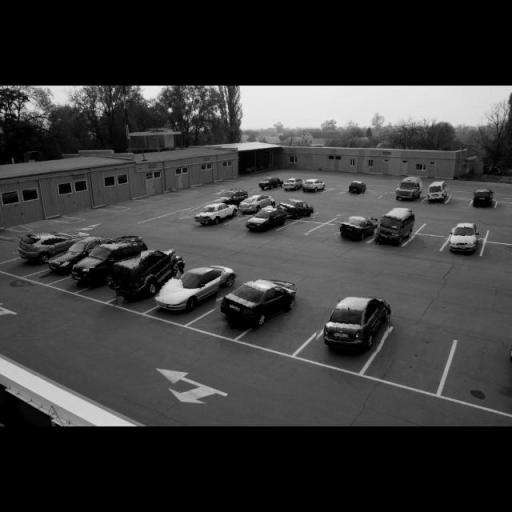busy: (313, 296, 391, 357), (214, 275, 295, 331), (110, 248, 182, 302), (71, 234, 142, 284), (158, 267, 230, 314), (13, 228, 73, 264), (368, 208, 418, 246), (55, 238, 99, 270), (444, 222, 486, 254), (334, 216, 380, 244), (193, 202, 239, 224), (246, 209, 290, 231), (277, 197, 318, 219), (390, 176, 424, 202), (238, 195, 272, 215), (425, 182, 452, 204), (220, 187, 254, 203), (471, 188, 497, 208), (302, 179, 328, 194), (256, 177, 282, 191), (346, 181, 368, 197), (284, 178, 305, 192)
free: (452, 360, 511, 398), (387, 343, 442, 375), (283, 316, 315, 338), (487, 244, 511, 262), (416, 236, 442, 249), (492, 229, 512, 242), (287, 224, 310, 235), (320, 225, 341, 237), (176, 208, 192, 221), (427, 224, 447, 234), (364, 189, 382, 200), (454, 198, 469, 208), (497, 202, 512, 211), (315, 215, 333, 222), (382, 193, 397, 201), (328, 190, 342, 196)
